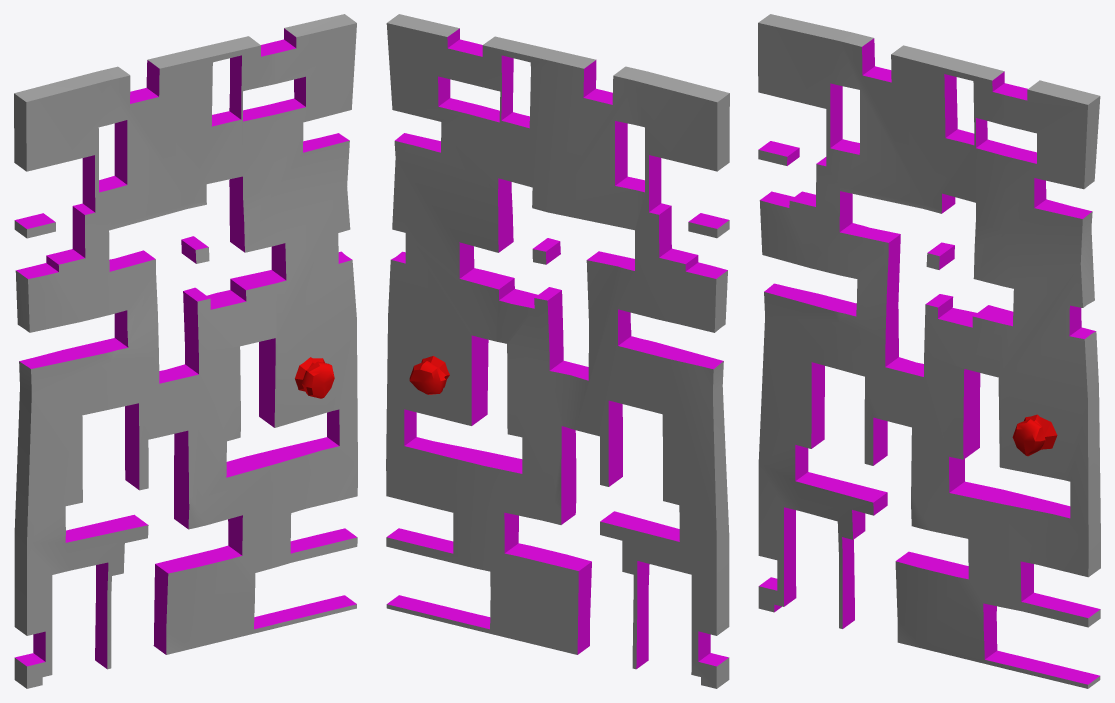
File: Door_Glitch.fbx
3 views of the same model, side by side, from view 1: azimuth 30°, elevation 25°; view 2: azimuth 150°, elevation 25°; view 3: azimuth 330°, elevation 25° (orthographic).
Parts seen in each view (by area): view 1: Door_Glitch; view 2: Door_Glitch; view 3: Door_Glitch.
Part boxes in pixels (left/top/right/bottom): Door_Glitch: left=14, top=14, right=357, bottom=688; Door_Glitch: left=386, top=14, right=729, bottom=688; Door_Glitch: left=758, top=14, right=1100, bottom=688.
Bounding box in the file's own units: 1.48 × 2.51 × 0.3163.
